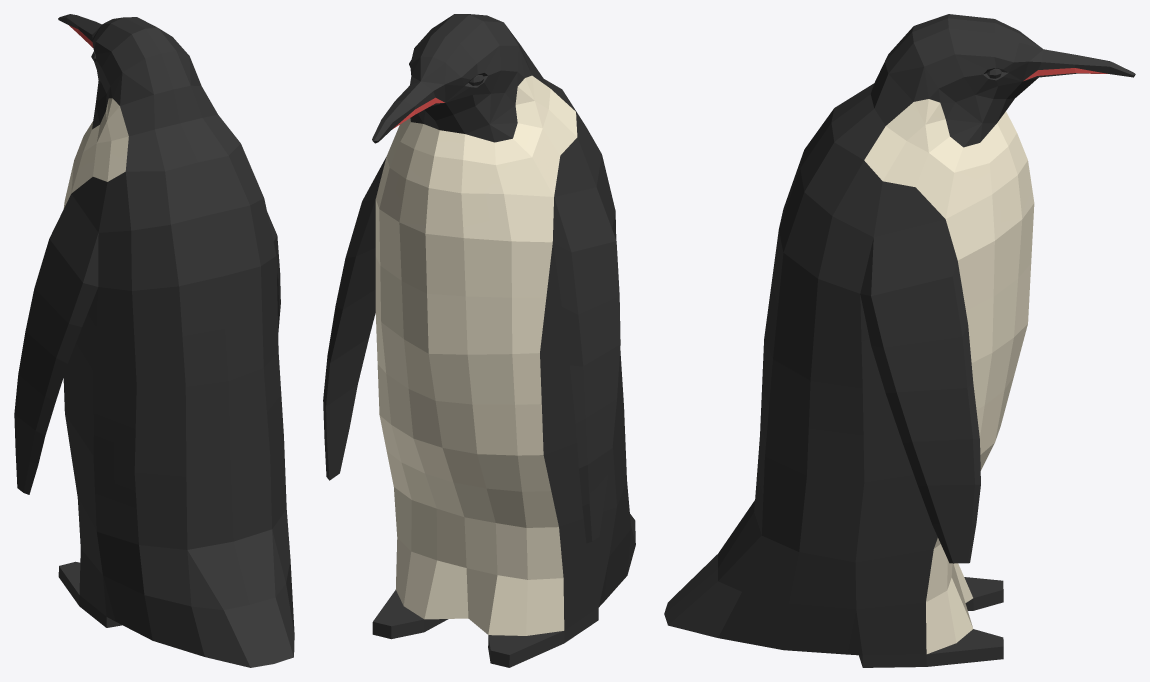
File: penguin.glb
3 views of the same model, side by side, from view 1: azimuth 30°, elevation 25°; view 2: azimuth 150°, elevation 25°; view 3: azimuth 270°, elevation 25° (orthographic). The views are drawn at different scales.
Visible parts, largest first — view 1: pinguin_001; view 2: pinguin_001; view 3: pinguin_001.
Part boxes in pixels (left/top/right/bottom): pinguin_001: left=14, top=14, right=294, bottom=667; pinguin_001: left=323, top=14, right=635, bottom=667; pinguin_001: left=664, top=14, right=1135, bottom=667.
Bounding box in the file's own units: 0.5806 × 1.28 × 0.9024.
Materials: 1 (1 with a texture image).
